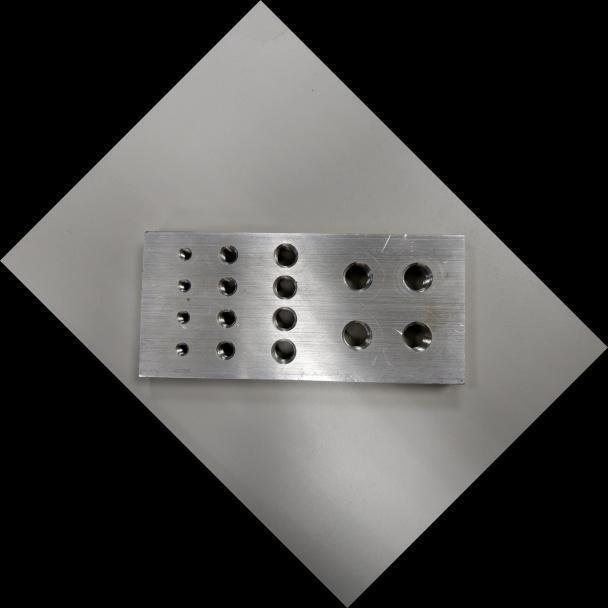hole: (335, 254, 380, 299), (334, 312, 379, 357), (395, 254, 440, 299), (394, 314, 439, 358), (264, 332, 302, 370), (267, 236, 304, 274), (266, 268, 303, 305), (266, 300, 303, 337), (213, 239, 243, 269), (212, 271, 242, 301), (211, 303, 241, 333), (211, 335, 240, 364), (171, 338, 193, 359), (172, 306, 193, 327), (174, 274, 194, 295), (174, 243, 195, 263)
